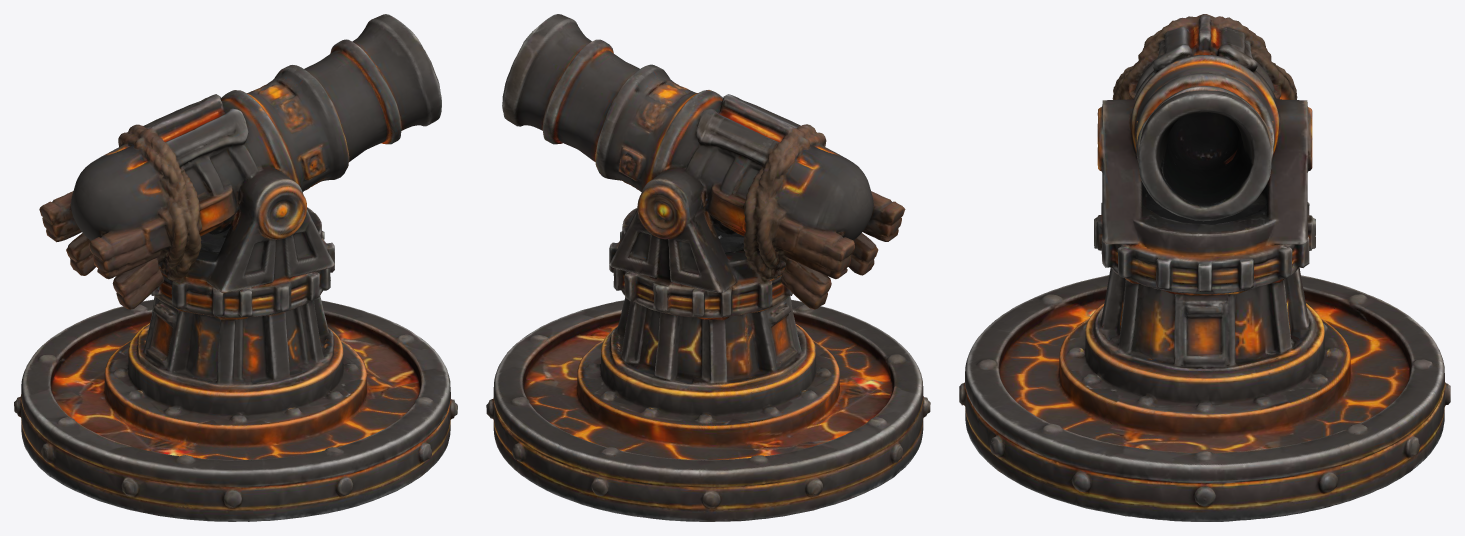
Rendered from mortar_fiery_thigh_quality.glb.
The picture shows the model from 3 angles, left to right: view 1: azimuth 30°, elevation 25°; view 2: azimuth 150°, elevation 25°; view 3: azimuth 270°, elevation 25°; orthographic projection. The views are drawn at different scales.
Visible parts, largest first — view 1: Base, Head; view 2: Base, Head; view 3: Base, Head.
Boxes of the visible parts, bbox=[...] form: Base: bbox=[14, 231, 457, 521]; Head: bbox=[39, 14, 441, 309]; Base: bbox=[486, 231, 930, 521]; Head: bbox=[502, 14, 905, 309]; Base: bbox=[959, 202, 1450, 521]; Head: bbox=[1097, 14, 1312, 258].
Bounding box in the file's own units: 1.91 × 1.79 × 1.91.
Materials: 1 (1 with a texture image).
